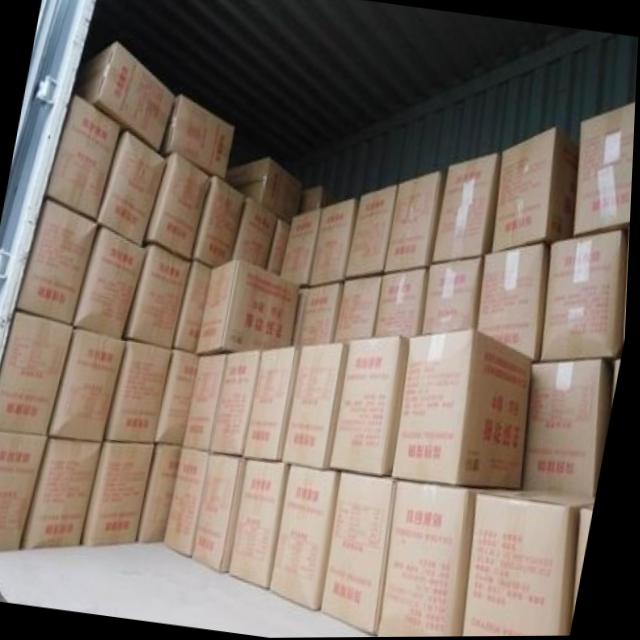box: (395, 331, 536, 486), (382, 479, 516, 638), (467, 487, 598, 637), (324, 471, 399, 635), (526, 359, 615, 496), (71, 44, 176, 155), (542, 228, 627, 363), (334, 337, 416, 475), (495, 129, 580, 253), (18, 201, 101, 326), (274, 466, 343, 611), (199, 261, 302, 355), (0, 310, 76, 437), (47, 97, 123, 223), (23, 437, 107, 549), (50, 329, 132, 442), (284, 340, 354, 469), (75, 227, 150, 338), (478, 244, 549, 361), (576, 102, 636, 239), (233, 459, 295, 590), (84, 443, 159, 547), (99, 132, 168, 244), (434, 152, 502, 264), (145, 153, 214, 259), (107, 341, 178, 443), (125, 244, 194, 347), (246, 346, 303, 466), (385, 173, 451, 275), (196, 454, 250, 573), (162, 96, 236, 179), (0, 431, 49, 551), (213, 352, 264, 458), (195, 175, 249, 266), (347, 184, 398, 278), (424, 254, 484, 333), (169, 447, 213, 554), (139, 444, 184, 545), (185, 354, 231, 452), (310, 198, 360, 288), (229, 159, 304, 219), (160, 346, 203, 446), (376, 267, 430, 338), (335, 272, 386, 342), (233, 196, 281, 270), (177, 258, 213, 353), (284, 209, 324, 286), (300, 279, 346, 345), (576, 502, 597, 620), (269, 214, 295, 274), (301, 187, 347, 211), (295, 283, 312, 346), (625, 229, 632, 349), (615, 360, 624, 407)
